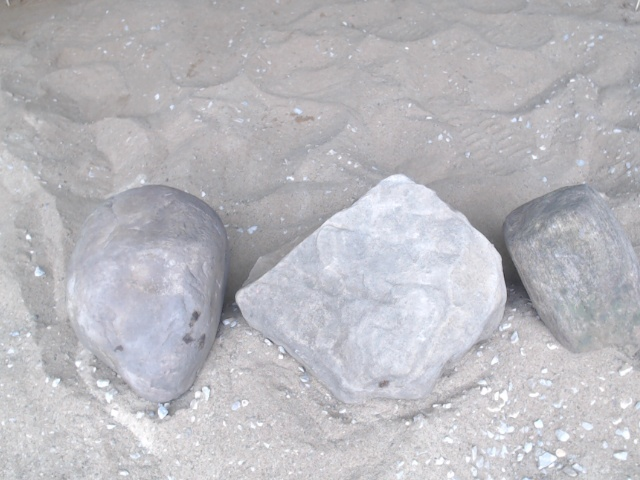rock: (229, 166, 516, 430), (60, 180, 233, 411), (496, 176, 640, 362)
